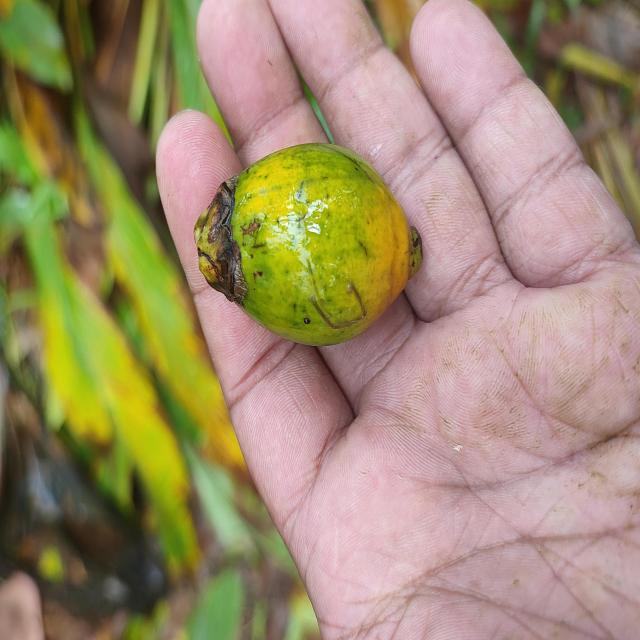good: (196, 143, 422, 348)
